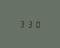three: (26, 19, 32, 28), (18, 19, 24, 27)
zero: (33, 20, 39, 28)
